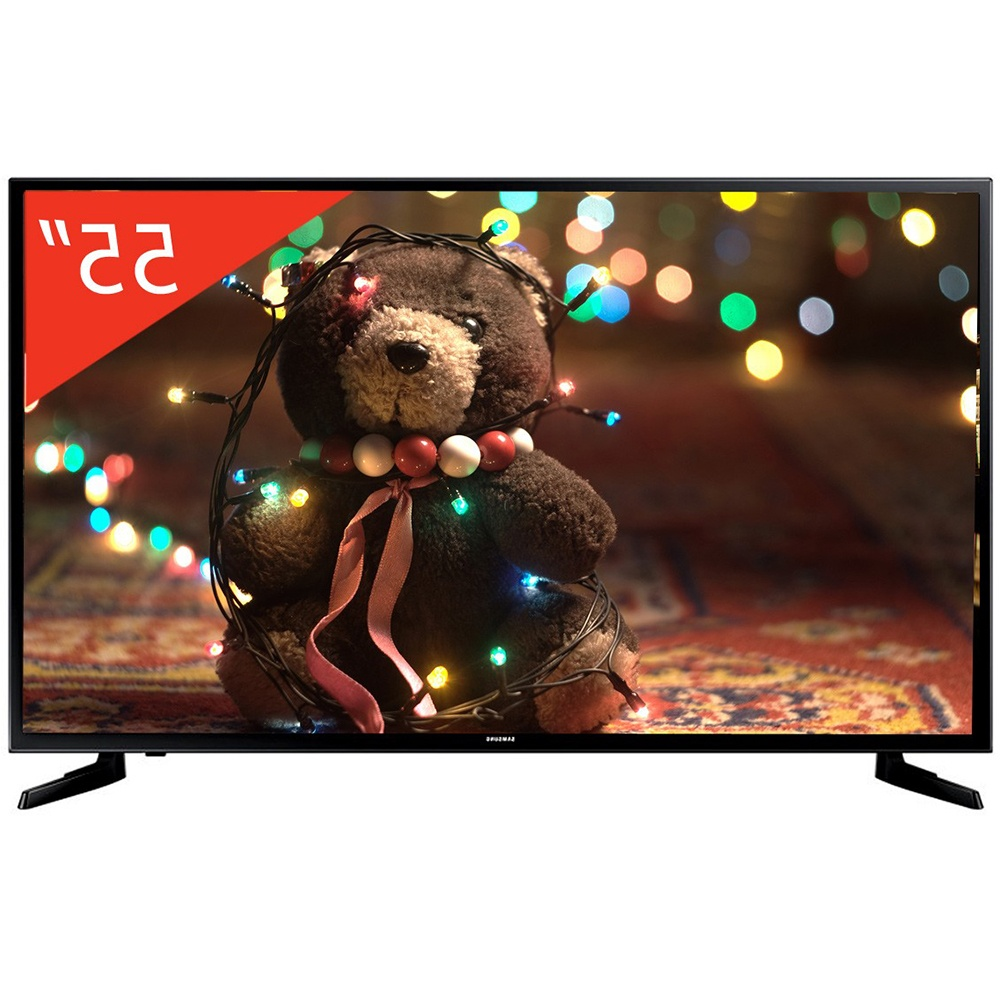SAMSUNG: (368, 683, 585, 847)
